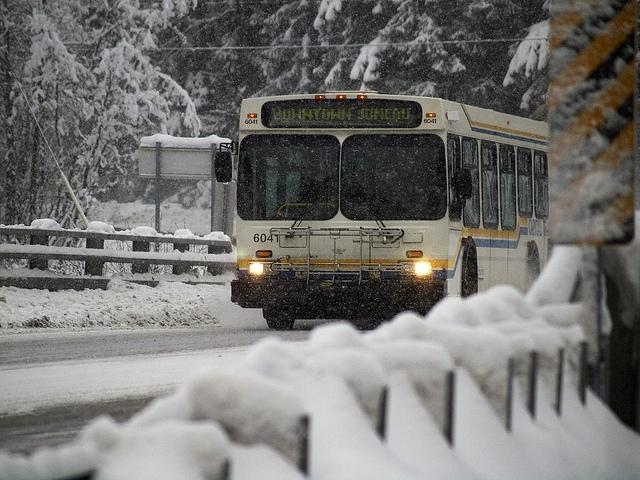bus: (214, 92, 566, 334)
